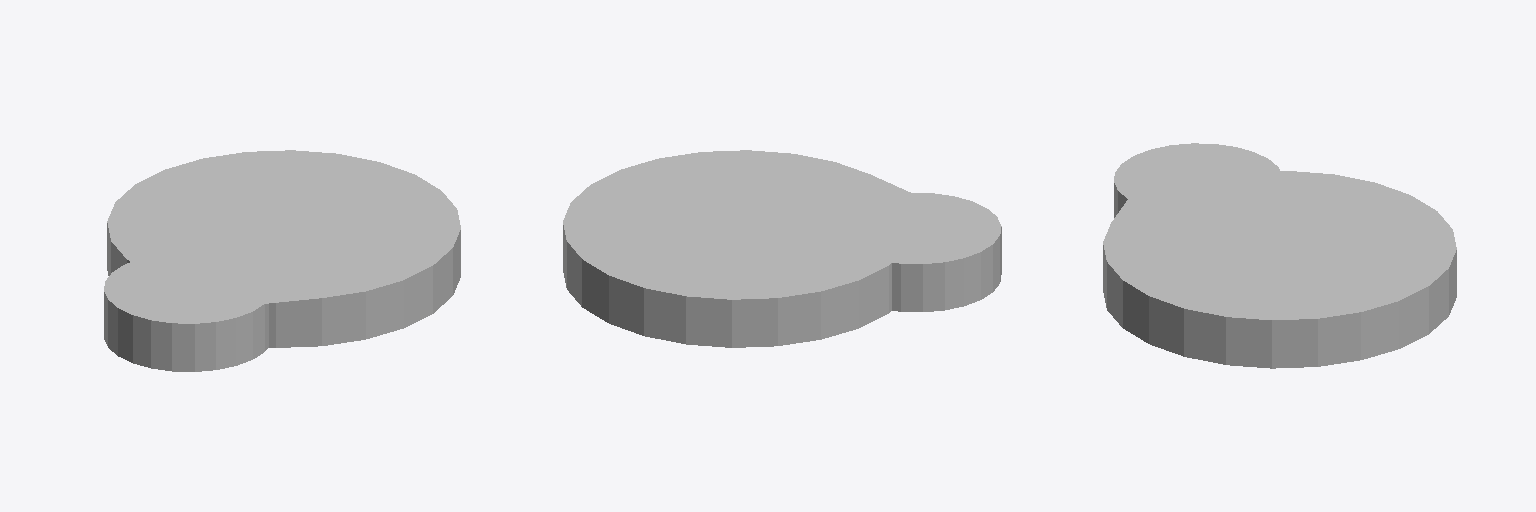
File: carro_passaro.obj
The picture shows the model from 3 angles: view 1: azimuth 30°, elevation 25°; view 2: azimuth 150°, elevation 25°; view 3: azimuth 270°, elevation 25°; orthographic projection.
Parts seen in each view (by area): view 1: passarinho_Mesh23_Group23_Model; view 2: passarinho_Mesh23_Group23_Model; view 3: passarinho_Mesh23_Group23_Model.
Boxes of the visible parts, x1,y1,x2,y2 form: passarinho_Mesh23_Group23_Model: [104, 150, 460, 371]; passarinho_Mesh23_Group23_Model: [563, 150, 1001, 347]; passarinho_Mesh23_Group23_Model: [1103, 143, 1456, 368].
Size of the model in its own units: 23.65 by 3 by 19.98.